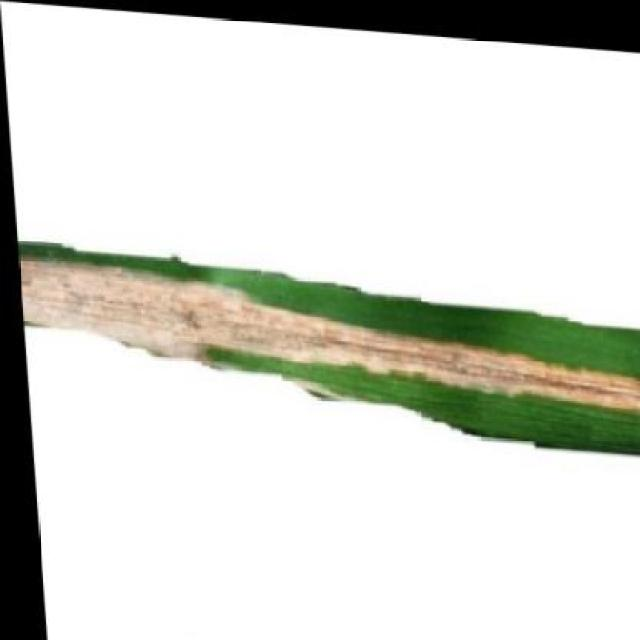Brown_Spot: (14, 238, 640, 458)
